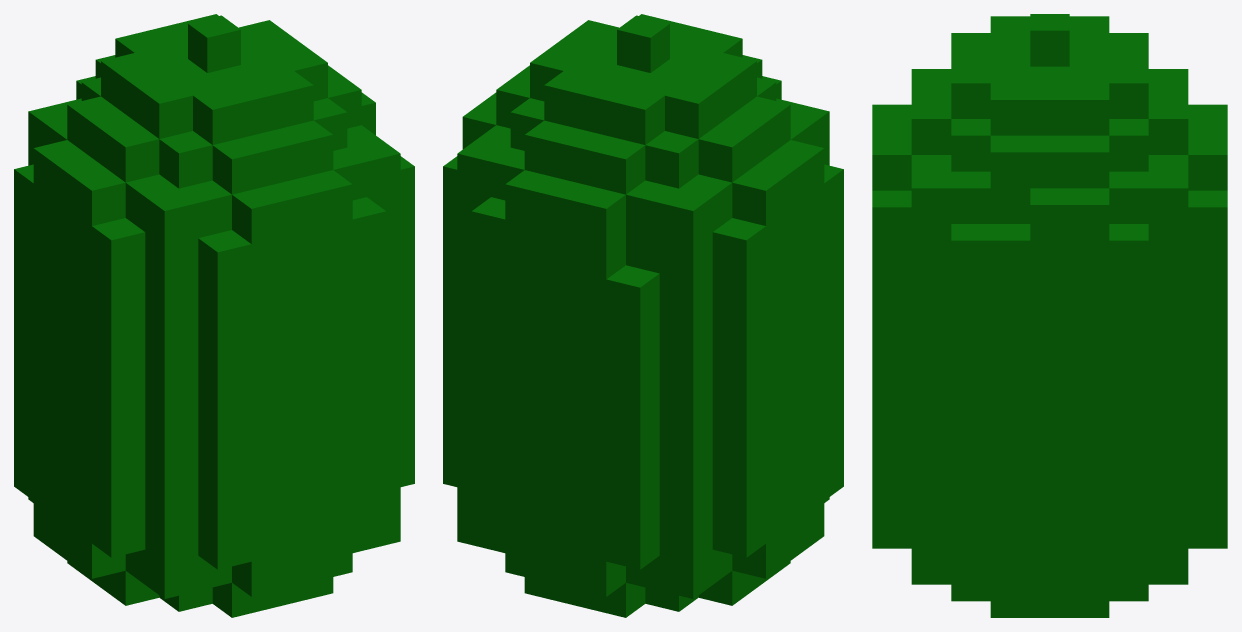
File: shrub2.obj
3 views of the same model, side by side, from view 1: azimuth 30°, elevation 25°; view 2: azimuth 150°, elevation 25°; view 3: azimuth 270°, elevation 25° (orthographic).
Bounding box in the file's own units: 0.9 × 1.5 × 0.9.
1 material, 1 textured.
